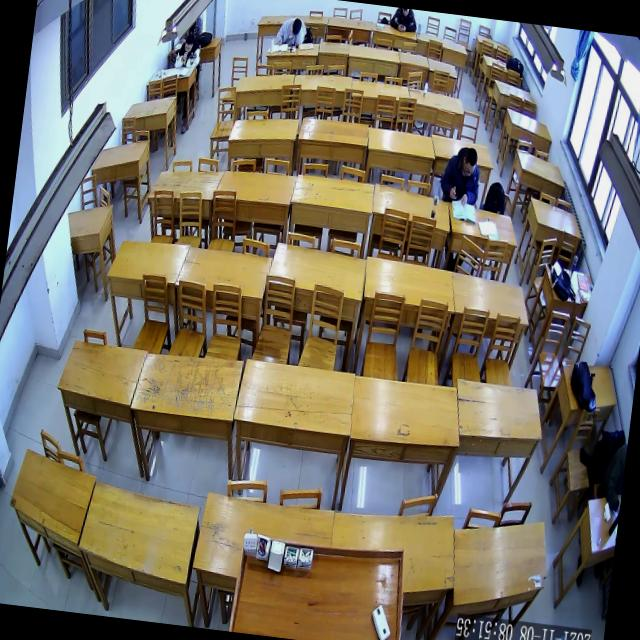bow: (274, 16, 308, 46)
down: (461, 146, 478, 177), (183, 34, 194, 54), (290, 18, 302, 36)
sit: (437, 144, 483, 208), (174, 31, 204, 70)
